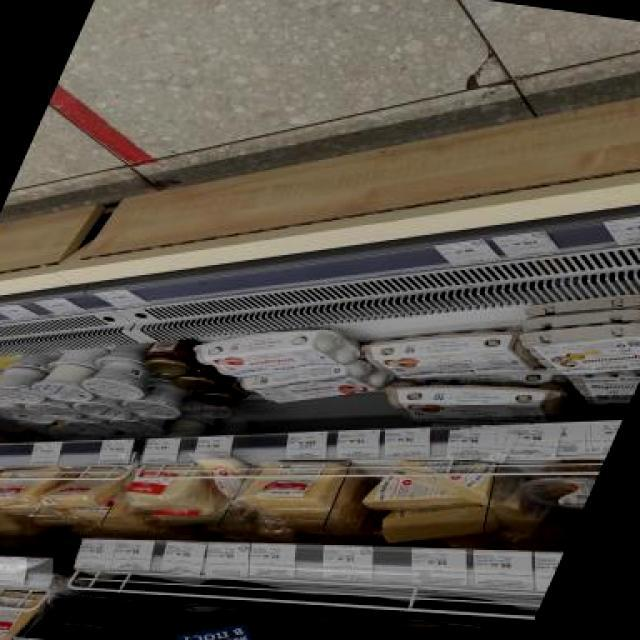Eggs: (181, 308, 374, 390), (212, 344, 402, 421), (356, 320, 546, 396), (384, 372, 580, 444), (387, 588, 540, 640), (378, 497, 512, 556), (285, 588, 422, 640), (382, 454, 513, 506), (46, 590, 180, 640), (238, 453, 344, 515), (179, 575, 304, 627), (518, 452, 604, 508), (121, 462, 212, 511), (43, 462, 124, 512), (77, 357, 160, 405), (120, 378, 198, 424), (138, 333, 209, 380), (26, 364, 104, 406), (0, 459, 55, 514), (192, 370, 260, 414), (0, 581, 49, 640), (0, 363, 59, 408), (167, 360, 231, 398), (47, 342, 110, 376), (66, 396, 138, 424), (407, 626, 527, 640)
